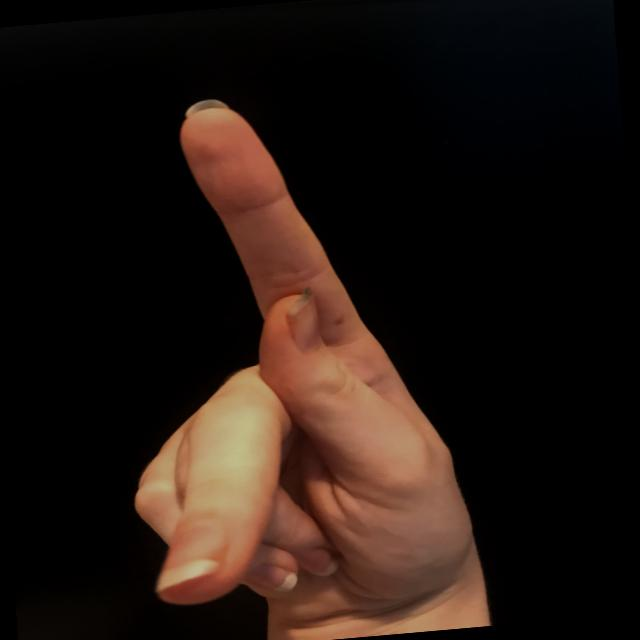P: (91, 72, 501, 636)
